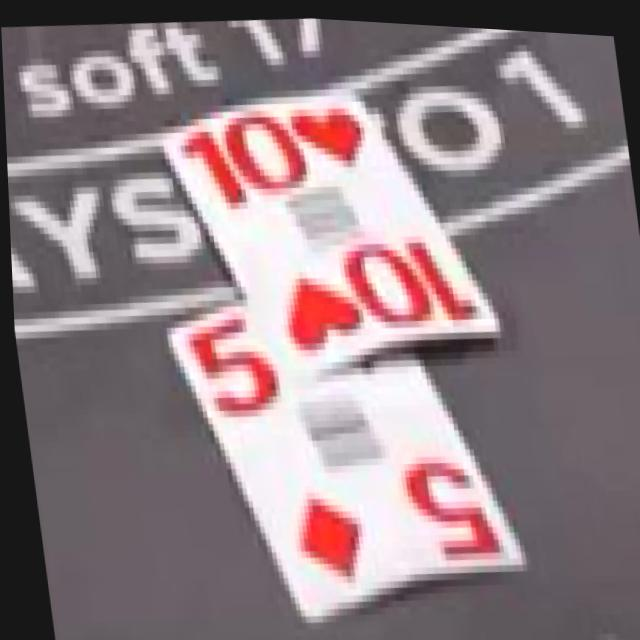Card-10: (160, 75, 495, 381)
Card-5: (163, 296, 522, 622)
